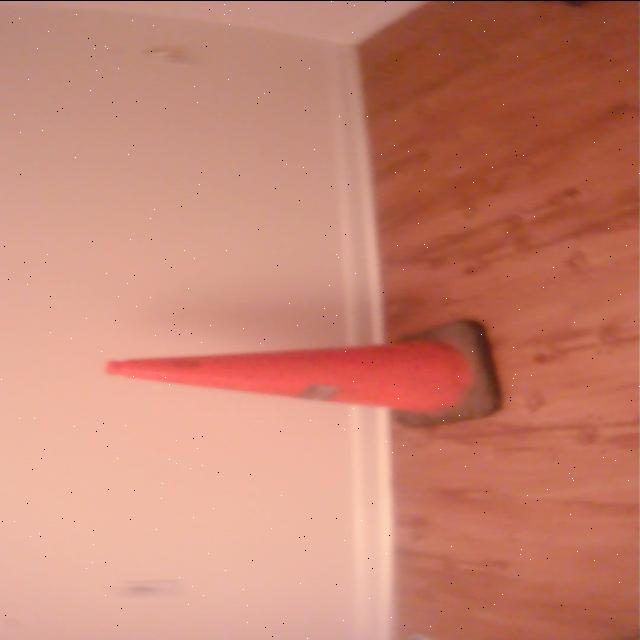traffic cone: (99, 316, 512, 432)
